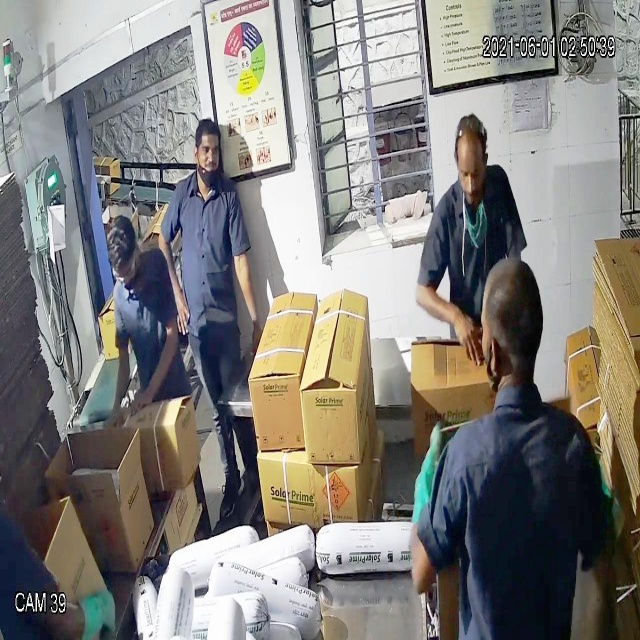Gafas: (104, 250, 143, 292)
Sin_gafas: (451, 154, 493, 187), (188, 137, 228, 167)
